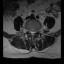CCS_stenosis: (31, 30, 33, 36)
LFS_normal: (35, 28, 37, 34)
LLS_normal: (33, 29, 35, 36)
RFS_normal: (27, 28, 29, 34)
RLS_normal: (29, 29, 31, 35)
